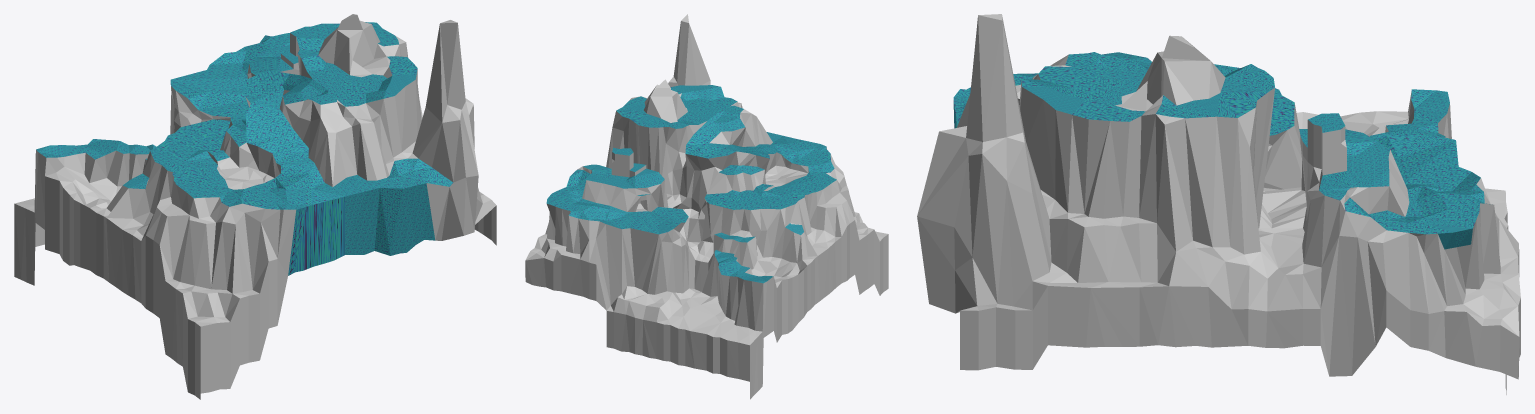
Rendered from Terrain_Cliff000.fbx.
3 renders of one model, left to right at view 1: azimuth 30°, elevation 25°; view 2: azimuth 150°, elevation 25°; view 3: azimuth 270°, elevation 25°, orthographic. The views are drawn at different scales.
Visible parts, largest first — view 1: Mountains; view 2: Mountains; view 3: Mountains.
Part boxes in pixels (bbox=[...]): Mountains: bbox=[14, 14, 496, 399]; Mountains: bbox=[525, 14, 888, 399]; Mountains: bbox=[917, 14, 1520, 394].
Size of the model in its own units: 9320 by 9467 by 10997.
